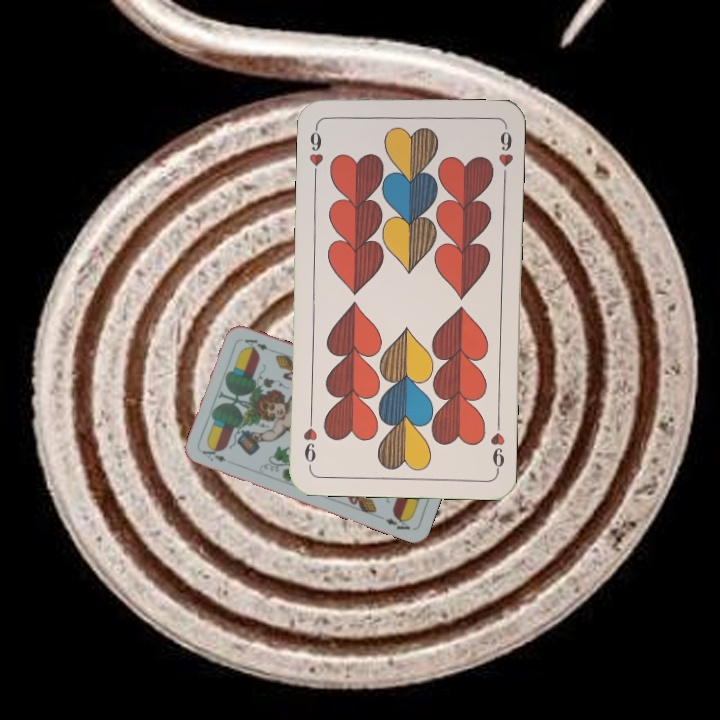EA: (198, 446, 228, 465)
H9: (487, 415, 508, 474), (305, 120, 326, 179)
